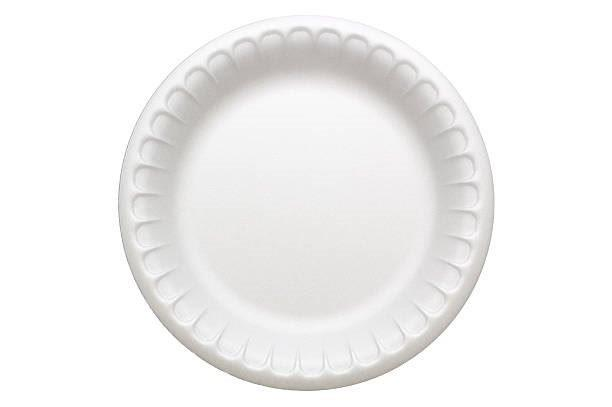sterofoam: (120, 16, 493, 388)
